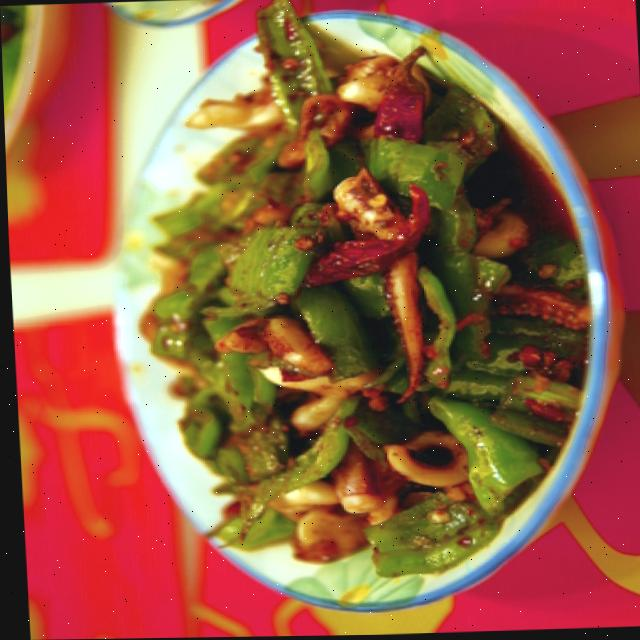蔬菜料理: (104, 0, 630, 639)
